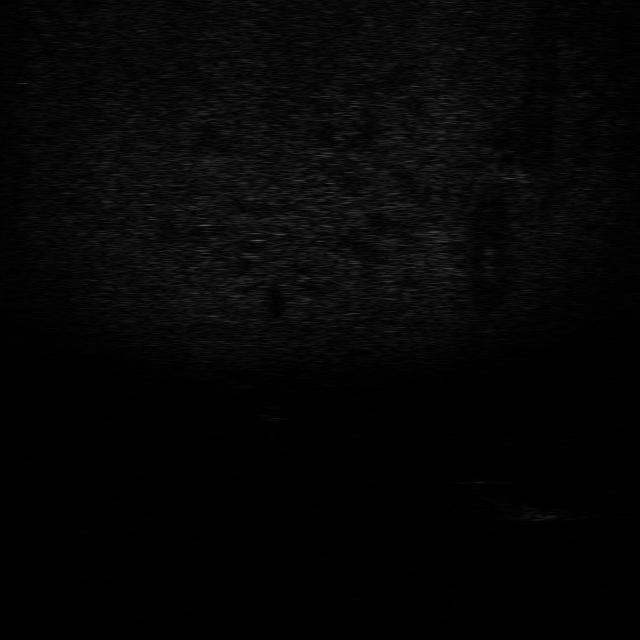ball: (256, 401, 294, 424)
metal bucket: (505, 499, 573, 523)
tyre: (465, 475, 520, 511)
